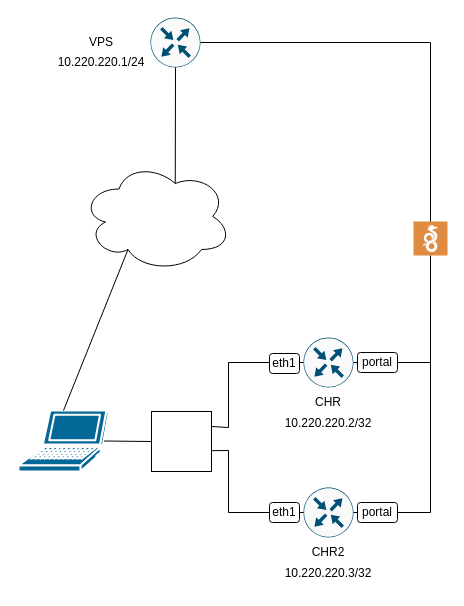
This 464x606 diagram has some shape labels left out. The centre of each missing label's shape, as x and y in pixels:
"VirtualBox" goes at (x=181, y=441).
"Интернет" goes at (x=156, y=216).
